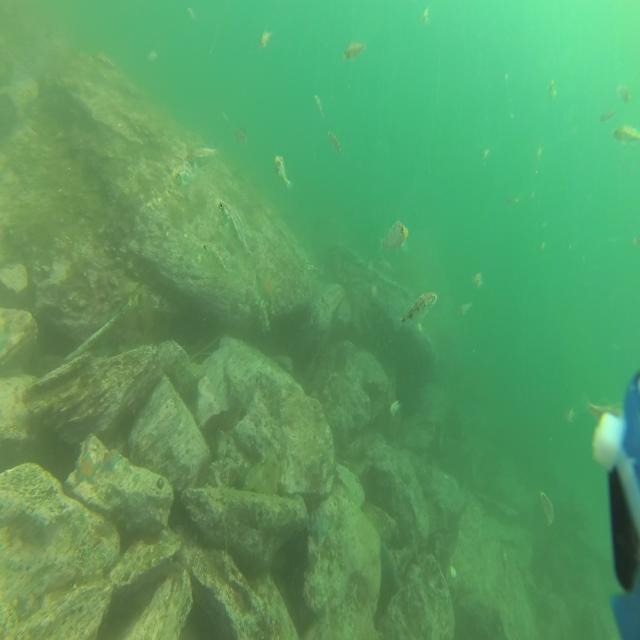holothurian: (248, 286, 272, 339)
starfish: (73, 450, 99, 487), (307, 510, 330, 547), (255, 269, 275, 308), (100, 447, 124, 473)
